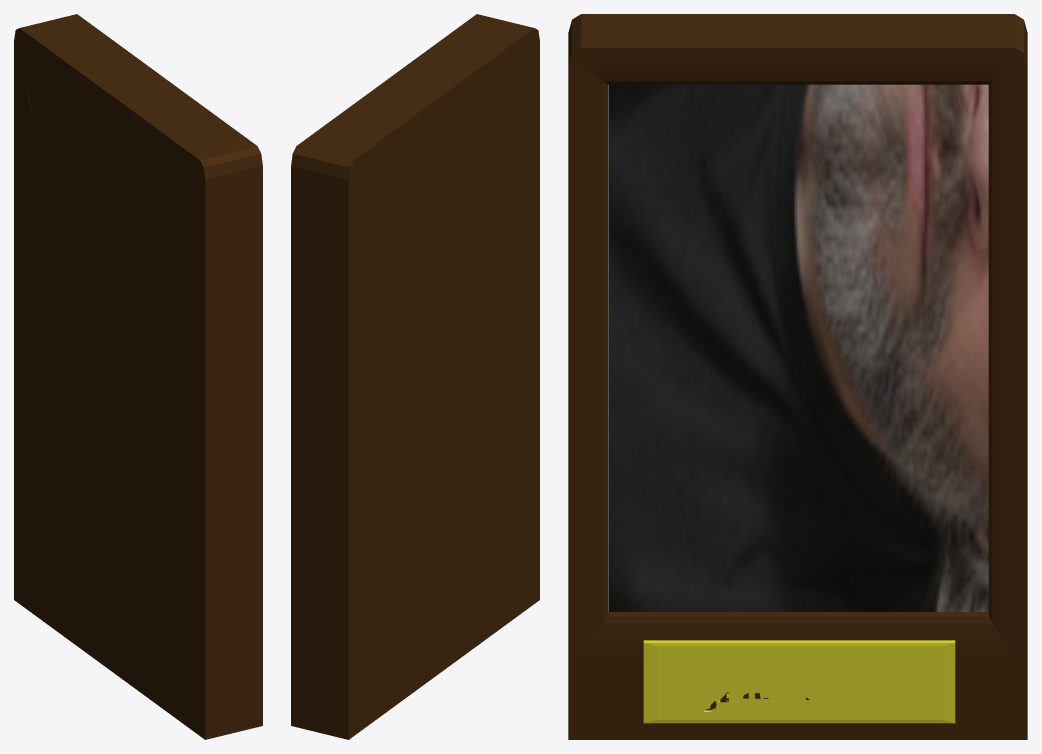
The model's file is employ of mnth.fbx.
3 views of the same model, side by side, from view 1: azimuth 30°, elevation 25°; view 2: azimuth 150°, elevation 25°; view 3: azimuth 270°, elevation 25° (orthographic). The views are drawn at different scales.
Visible parts, largest first — view 1: Cube.003; view 2: Cube.003; view 3: Cube.003.
Boxes of the visible parts, box(x1,y1,x2,y2) form: Cube.003: box(14, 14, 262, 739); Cube.003: box(291, 14, 539, 739); Cube.003: box(568, 14, 1027, 739).
Bounding box in the file's own units: 53.61 × 477 × 287.
3 materials, 1 textured.
